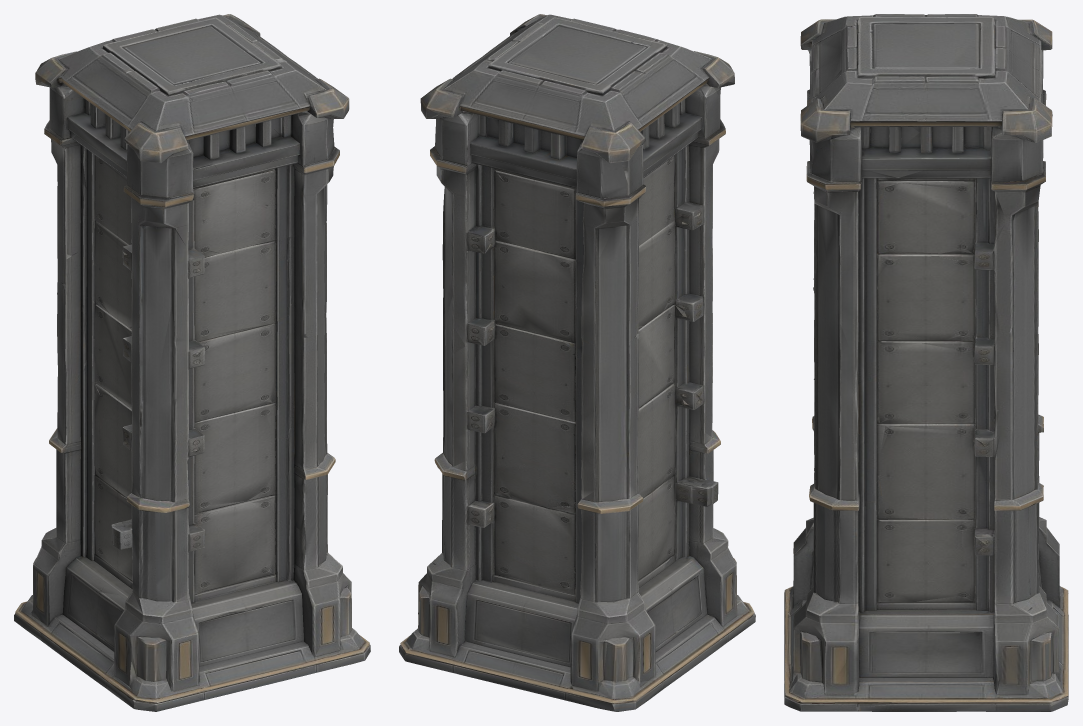
The model's file is imperial_city_wall_corner_post.glb.
3 views of the same model, side by side, from view 1: azimuth 30°, elevation 25°; view 2: azimuth 150°, elevation 25°; view 3: azimuth 270°, elevation 25° (orthographic). The views are drawn at different scales.
Parts seen in each view (by area): view 1: mesh_node; view 2: mesh_node; view 3: mesh_node.
Boxes of the visible parts, x1,y1,x2,y2 form: mesh_node: [14, 14, 370, 711]; mesh_node: [399, 14, 755, 711]; mesh_node: [784, 14, 1068, 711].
Bounding box in the file's own units: 2.59 × 6.1 × 2.59.
1 material, 1 textured.
